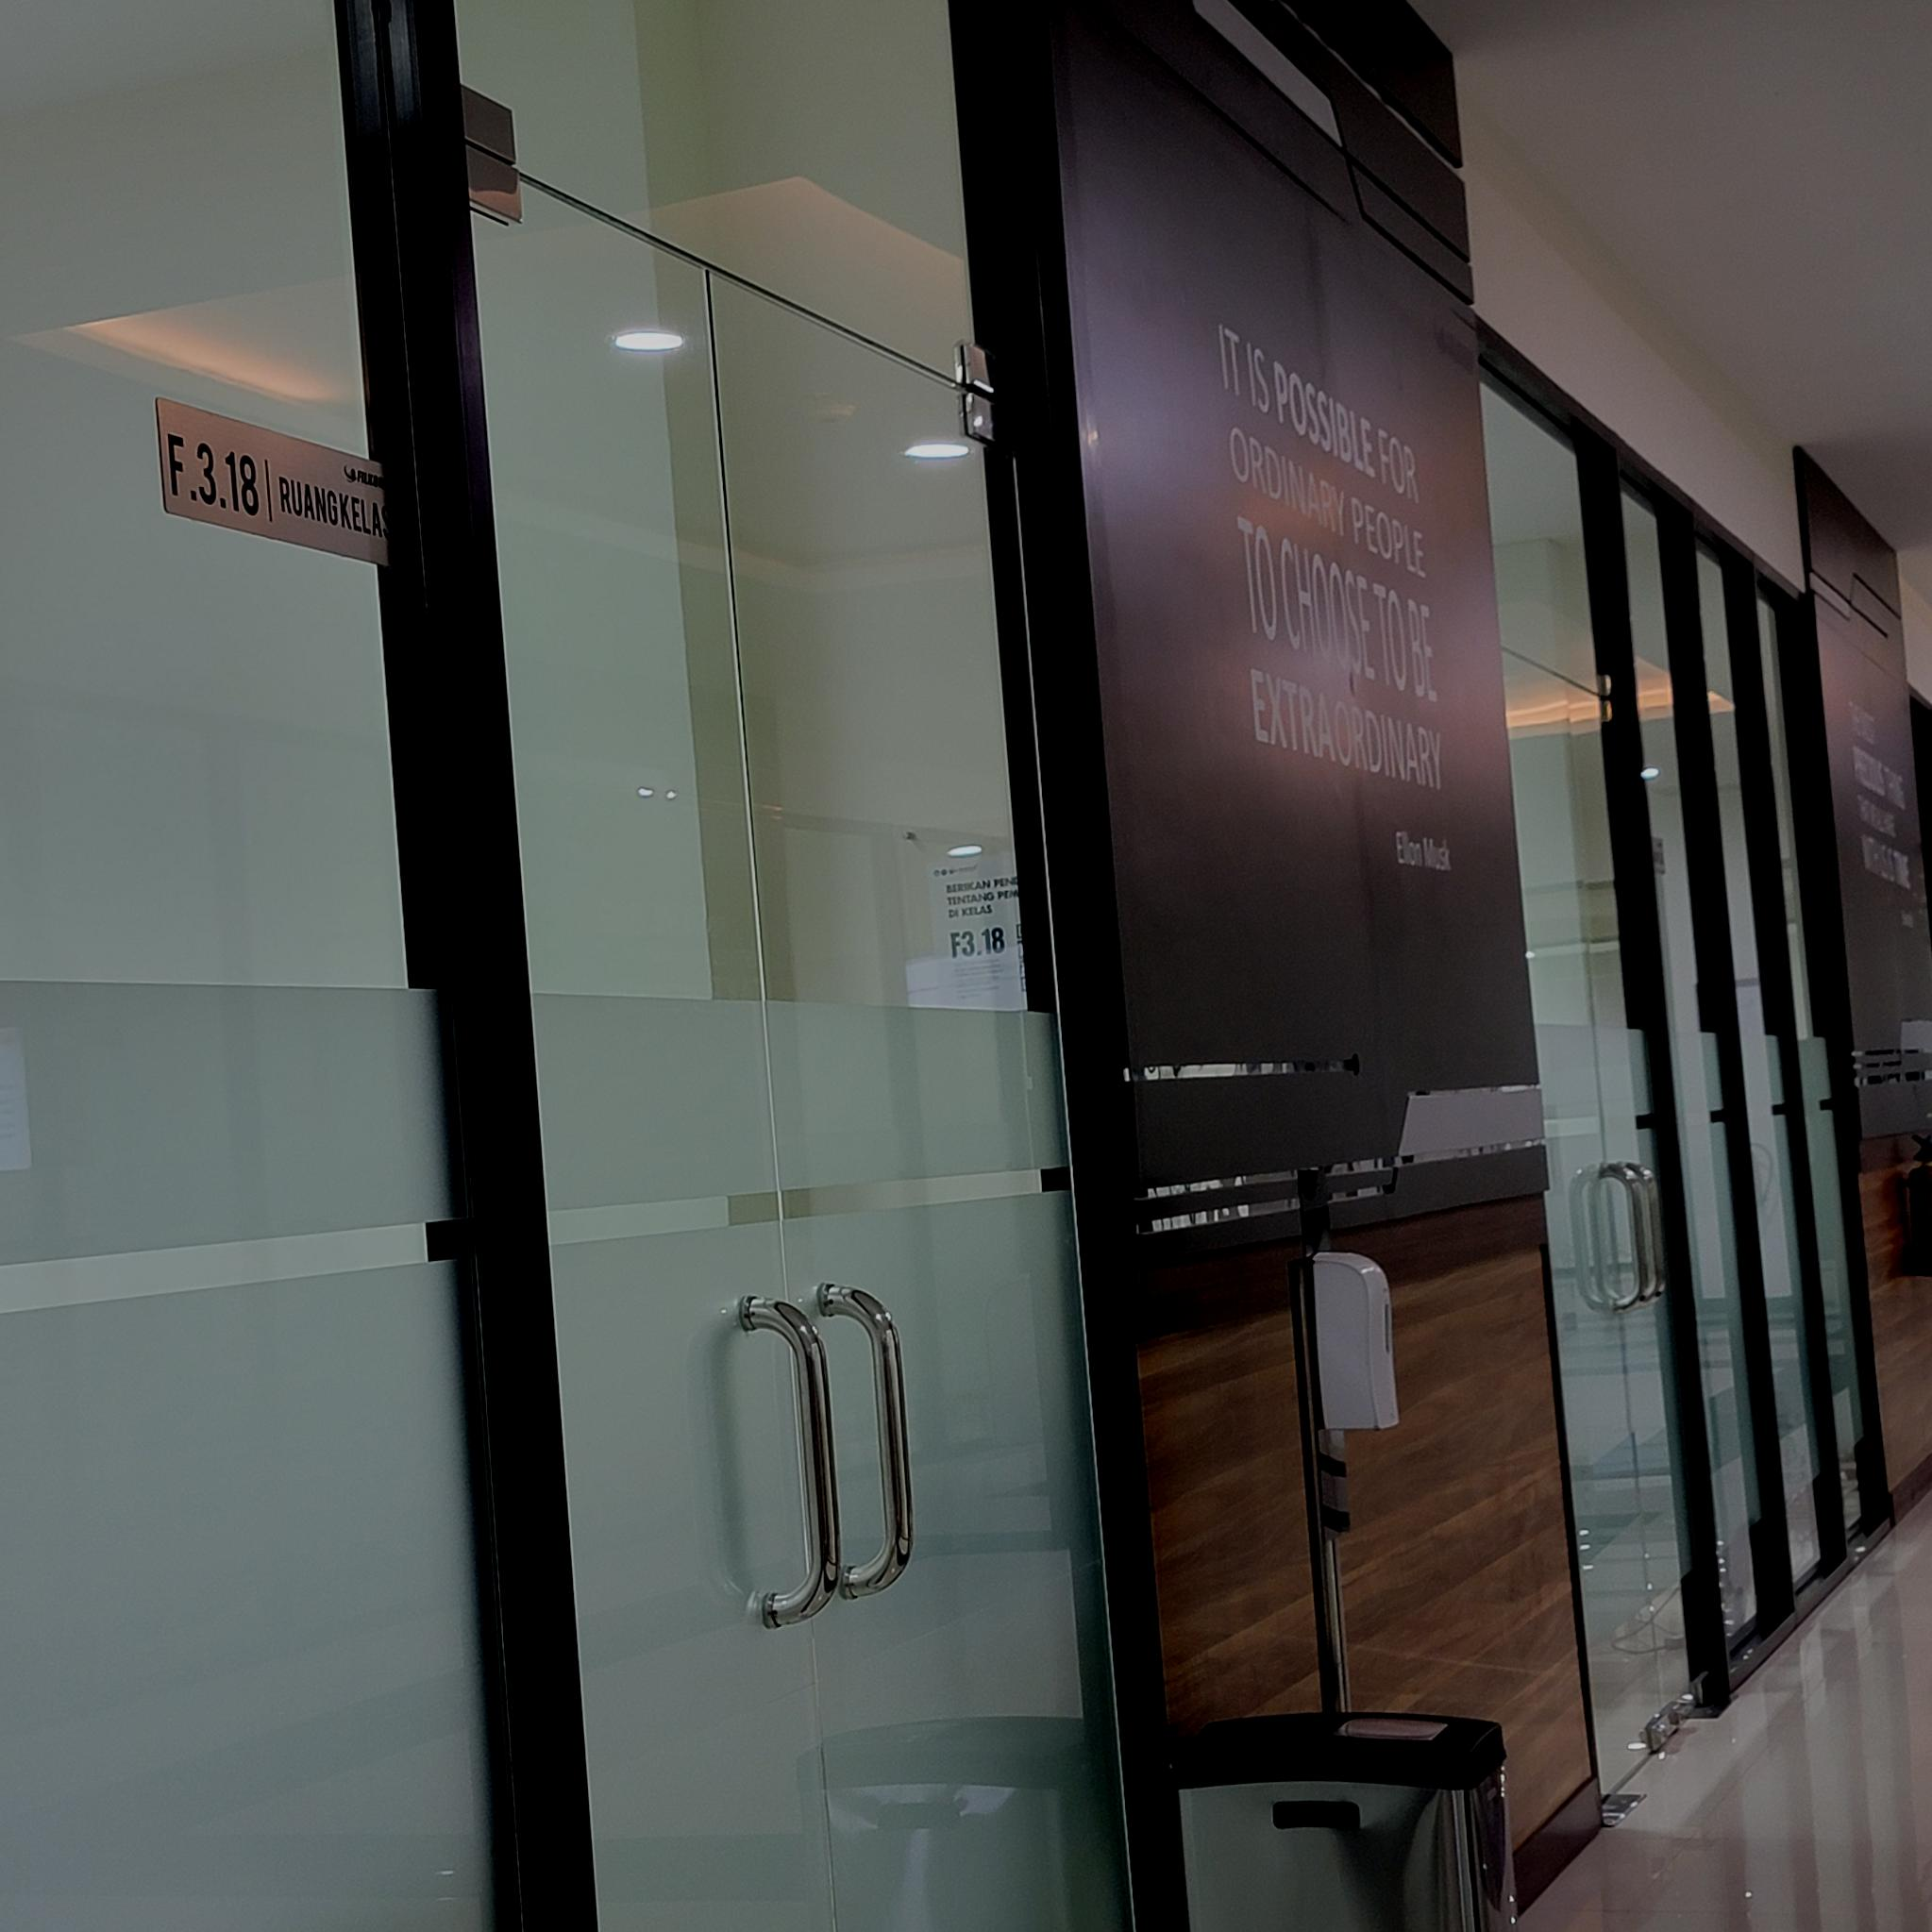plate: (156, 395, 402, 575)
